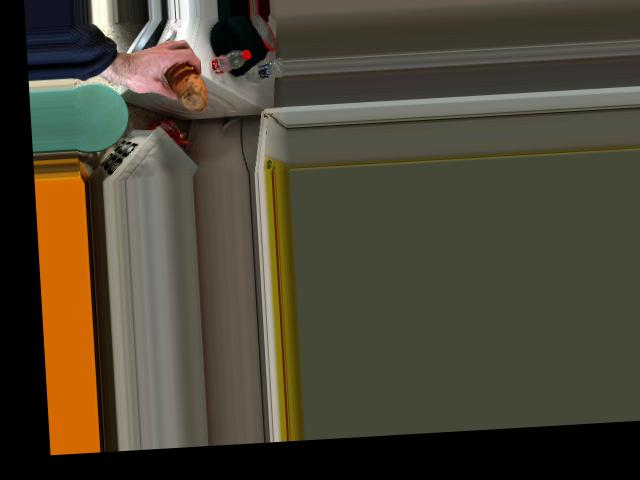sweet_potato: (164, 58, 209, 104)
